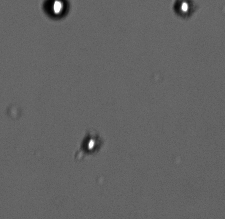Living Cell: (40, 1, 73, 20), (78, 132, 103, 156), (171, 1, 197, 19)
